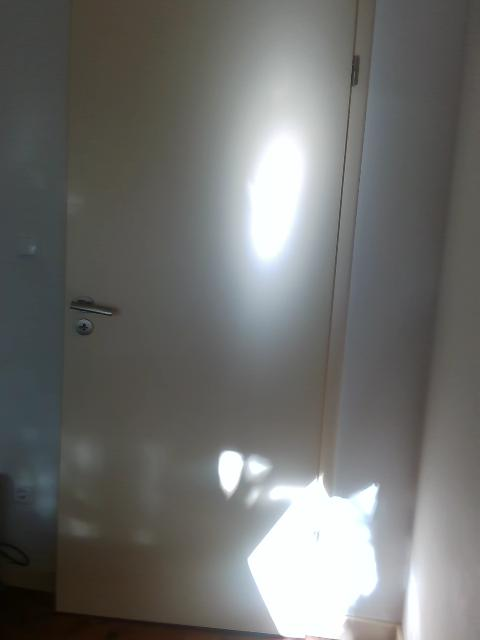door: (55, 1, 327, 640)
